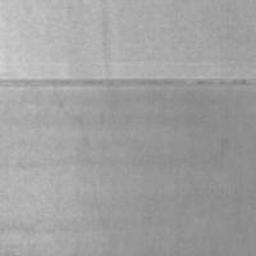Welding line: (0, 77, 256, 88)
